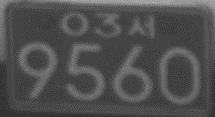0: (158, 46, 201, 106), (60, 10, 90, 37)
3: (93, 12, 122, 38)
5: (65, 41, 106, 103)
6: (112, 43, 154, 104)
9: (17, 39, 58, 99)
서: (127, 13, 155, 40)
